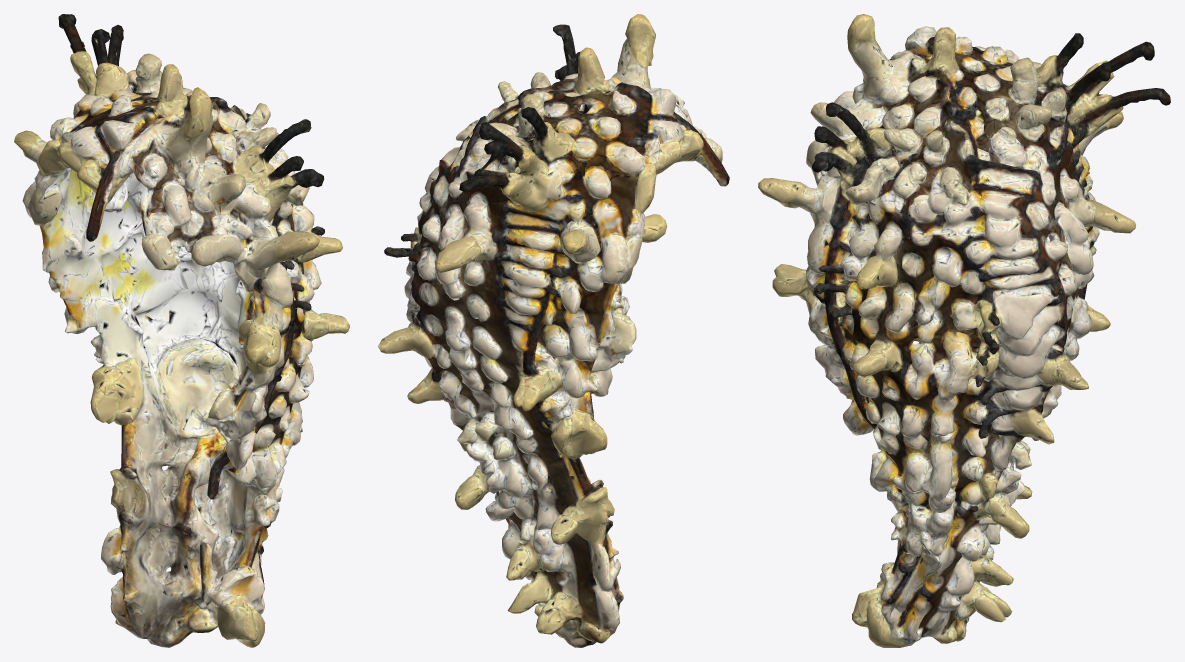
The model's file is 00_kwak_juggling1.glb.
The picture shows the model from 3 angles, left to right: view 1: azimuth 30°, elevation 25°; view 2: azimuth 150°, elevation 25°; view 3: azimuth 270°, elevation 25°; orthographic projection. The views are drawn at different scales.
Parts seen in each view (by area): view 1: 곽인탄, 저글링 1 (흰 머리), 2023, 석고, 레진, 철,; view 2: 곽인탄, 저글링 1 (흰 머리), 2023, 석고, 레진, 철,; view 3: 곽인탄, 저글링 1 (흰 머리), 2023, 석고, 레진, 철,.
Part boxes in pixels (x1,y1,x2,y2): 곽인탄, 저글링 1 (흰 머리), 2023, 석고, 레진, 철,: [14, 14, 349, 647]; 곽인탄, 저글링 1 (흰 머리), 2023, 석고, 레진, 철,: [378, 14, 729, 647]; 곽인탄, 저글링 1 (흰 머리), 2023, 석고, 레진, 철,: [758, 14, 1170, 647].
Bounding box in the file's own units: 7.34 × 14.47 × 8.76.
Materials: 1 (1 with a texture image).
